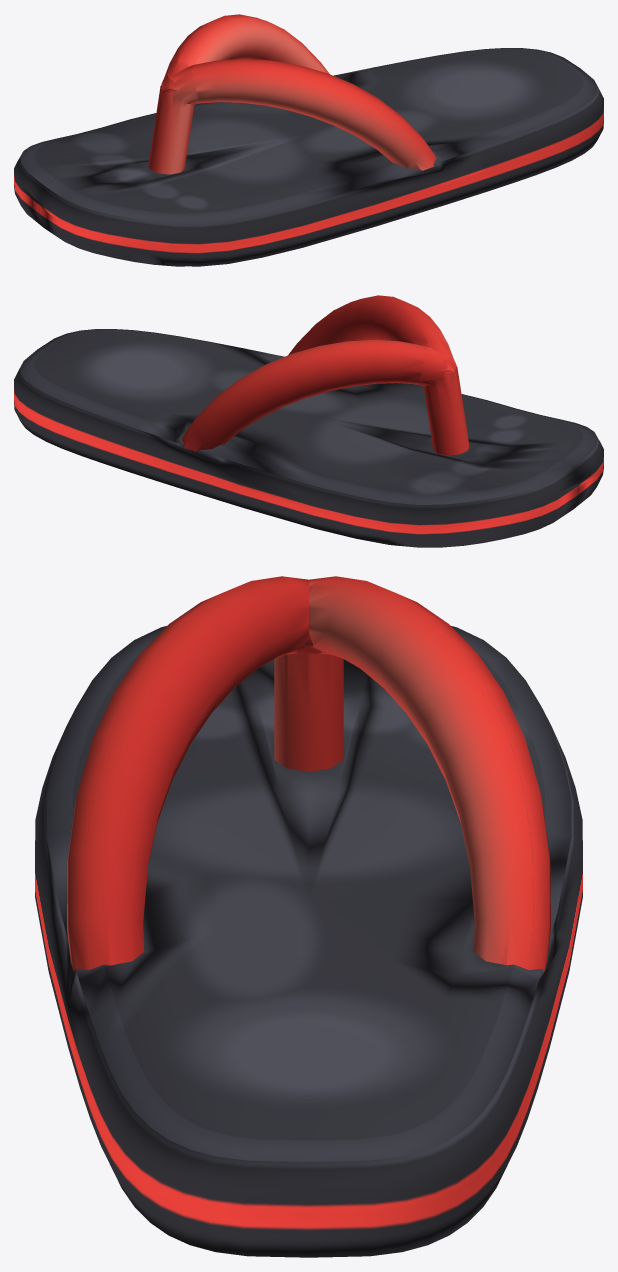
The model's file is tsinelas_spartan.glb.
3 views of the same model, one above another, from view 1: azimuth 30°, elevation 25°; view 2: azimuth 150°, elevation 25°; view 3: azimuth 270°, elevation 25° (orthographic). The views are drawn at different scales.
Visible parts, largest first — view 1: spartan.001; view 2: spartan.001; view 3: spartan.001.
Boxes of the visible parts, left/top/right/bottom form: spartan.001: left=14, top=14, right=603, bottom=266; spartan.001: left=14, top=295, right=603, bottom=547; spartan.001: left=35, top=576, right=582, bottom=1257.
Bounding box in the file's own units: 0.432 × 0.1221 × 0.1879.
Materials: 1 (1 with a texture image).
